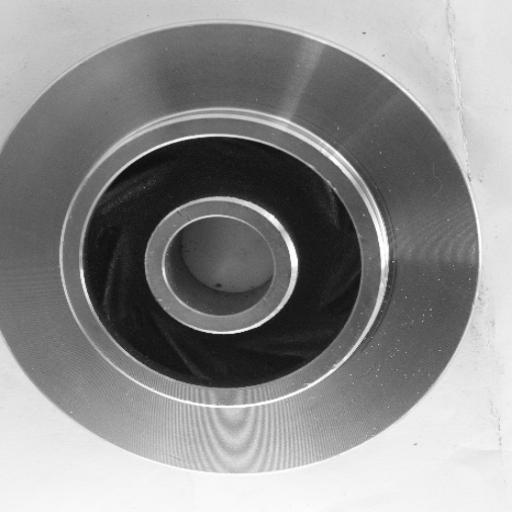polished_casting: (3, 20, 478, 477)
